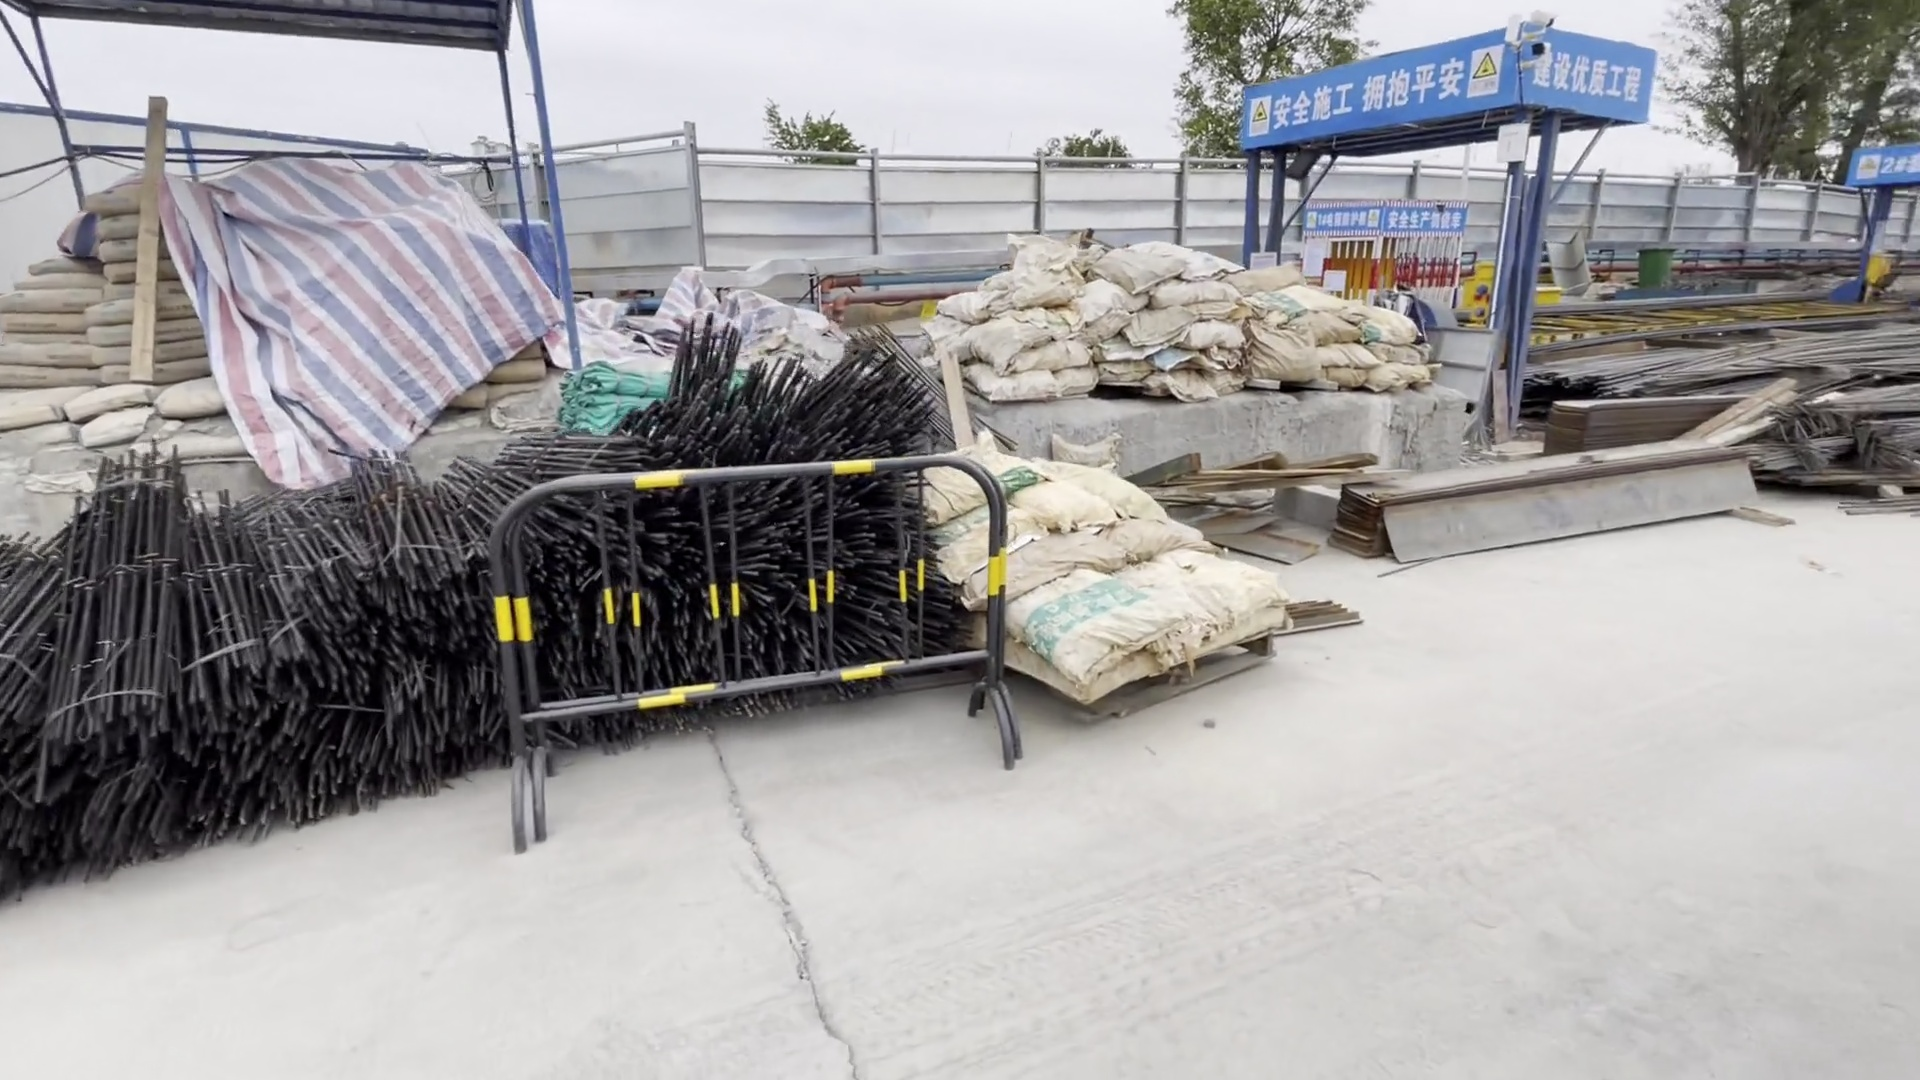ebox: (1449, 258, 1510, 331), (1865, 249, 1905, 305)
slogan: (1236, 65, 1511, 132), (1520, 38, 1658, 128)
